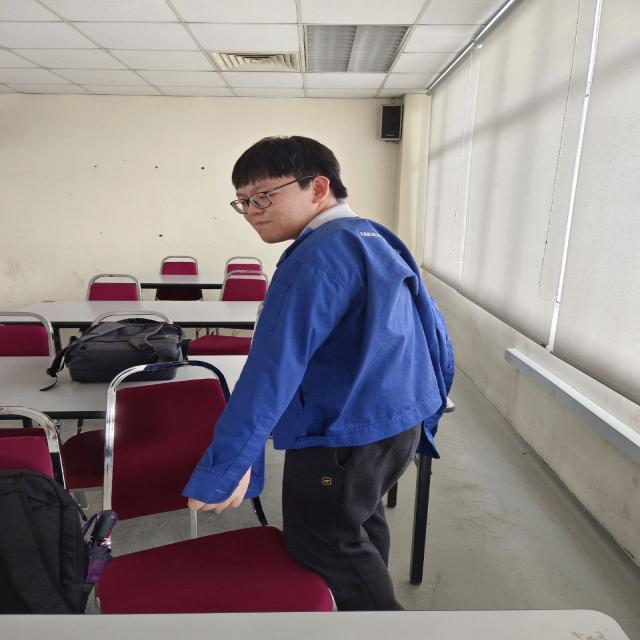person_without_labcoat: (182, 136, 454, 610)
